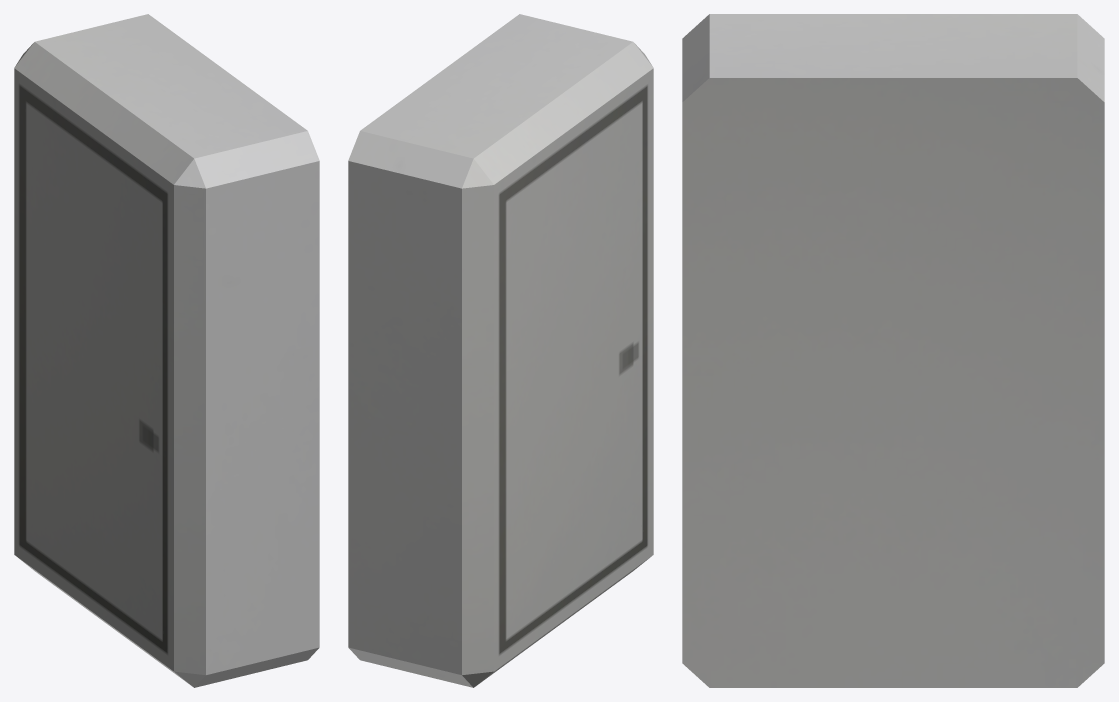
File: SähköLaatikko.fbx
The picture shows the model from 3 angles, left to right: view 1: azimuth 30°, elevation 25°; view 2: azimuth 150°, elevation 25°; view 3: azimuth 270°, elevation 25°; orthographic projection. The views are drawn at different scales.
Visible parts, largest first — view 1: Kaappi; view 2: Kaappi; view 3: Kaappi.
Boxes of the visible parts, <box> form: Kaappi: <box>14,14,319,687</box>; Kaappi: <box>348,14,653,687</box>; Kaappi: <box>682,14,1104,687</box>.
Bounding box in the file's own units: 115 × 435 × 273.
Materials: 1 (1 with a texture image).
